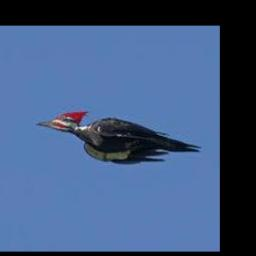Woodpecker: (36, 110, 202, 163)
